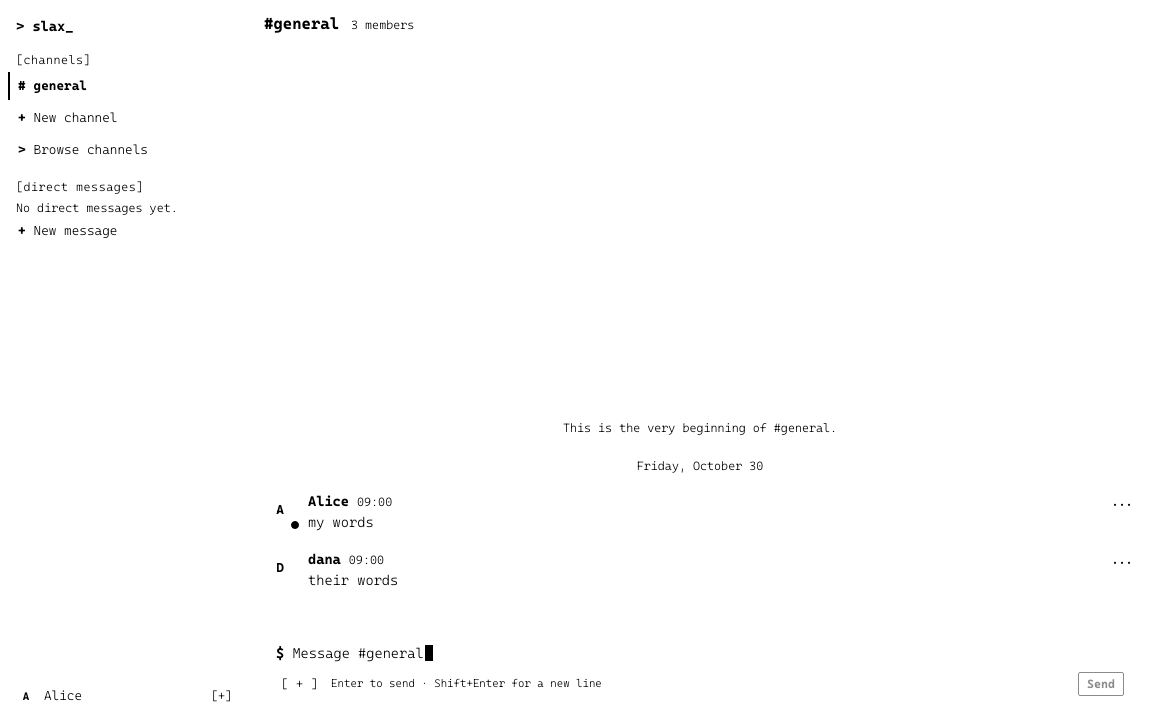
Test: message actions › says why an edit was refused, and keeps the editor open
Click the button with class "message-actions__more" in the row of "my words" at (1122, 505), box [1100,483,1144,527]
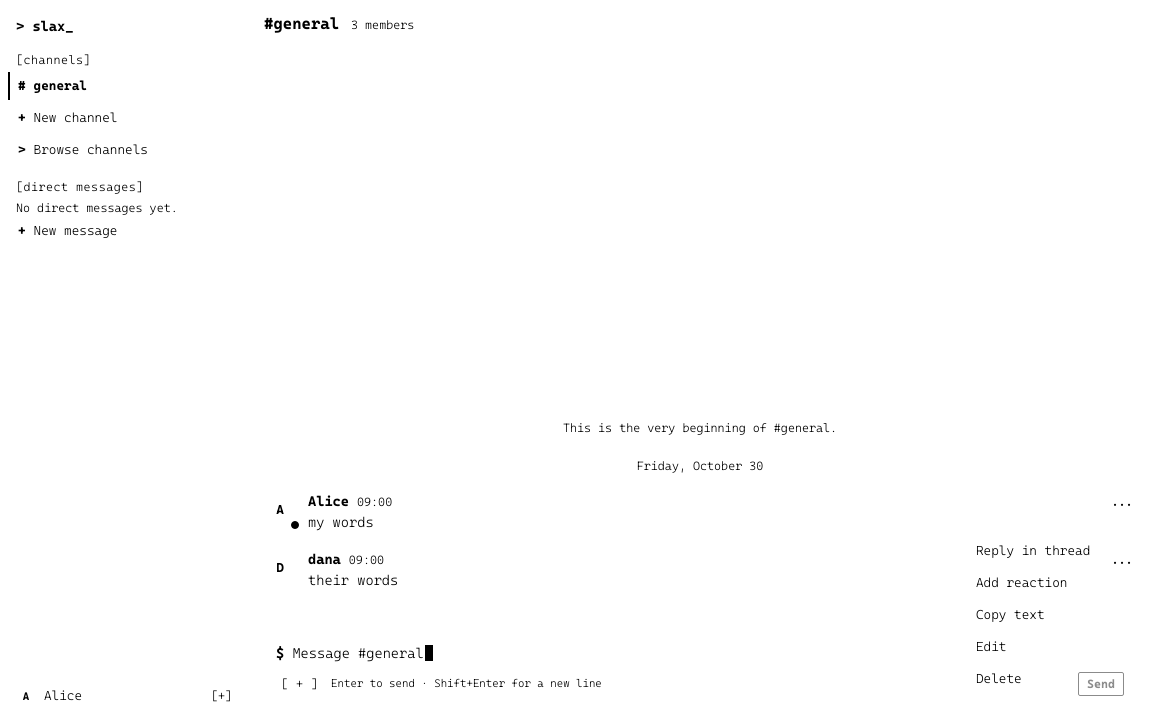
Click the menu item "Edit" at (1052, 647), box [964,631,1140,663]
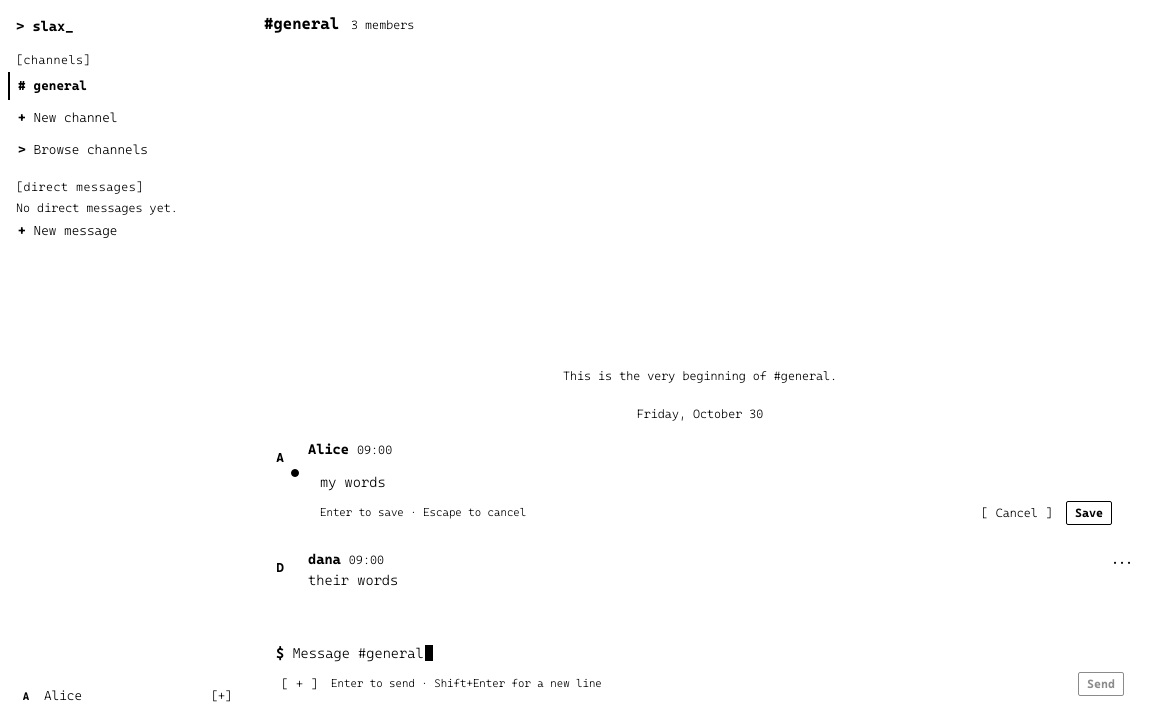
Replace the text in the text box with class "message-editor__input" with "changed" at (716, 482), box [320,472,1112,493]
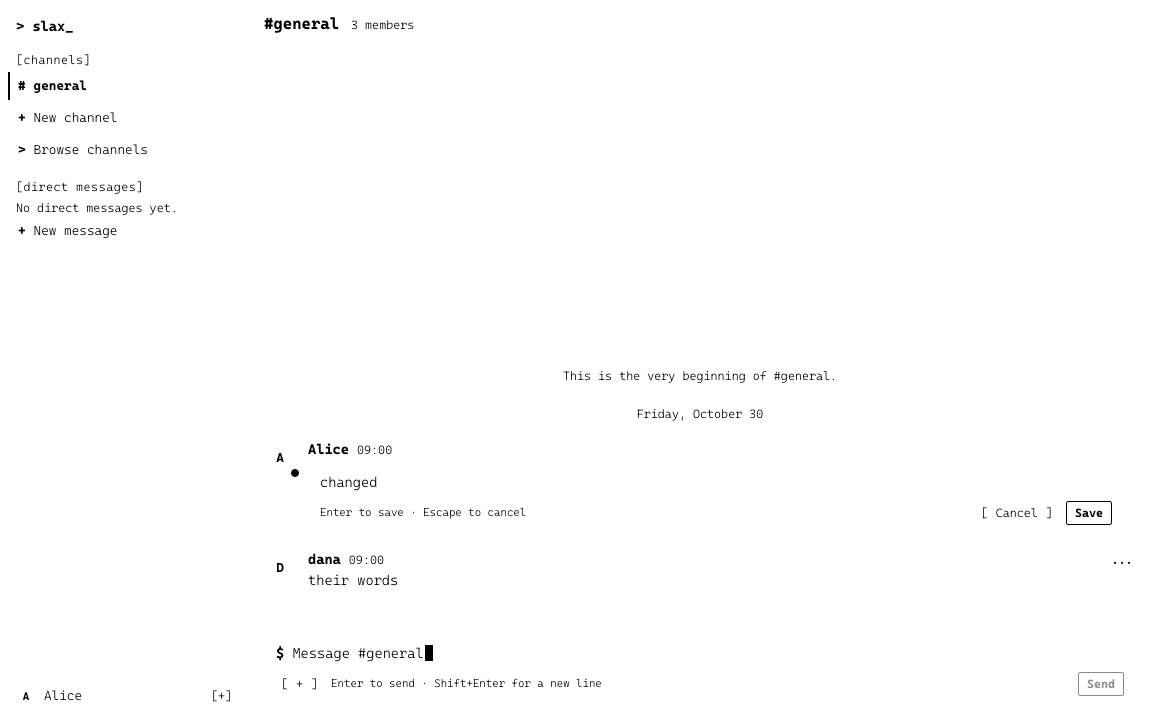
Press Enter in the text box with class "message-editor__input", box [320,472,1112,493]
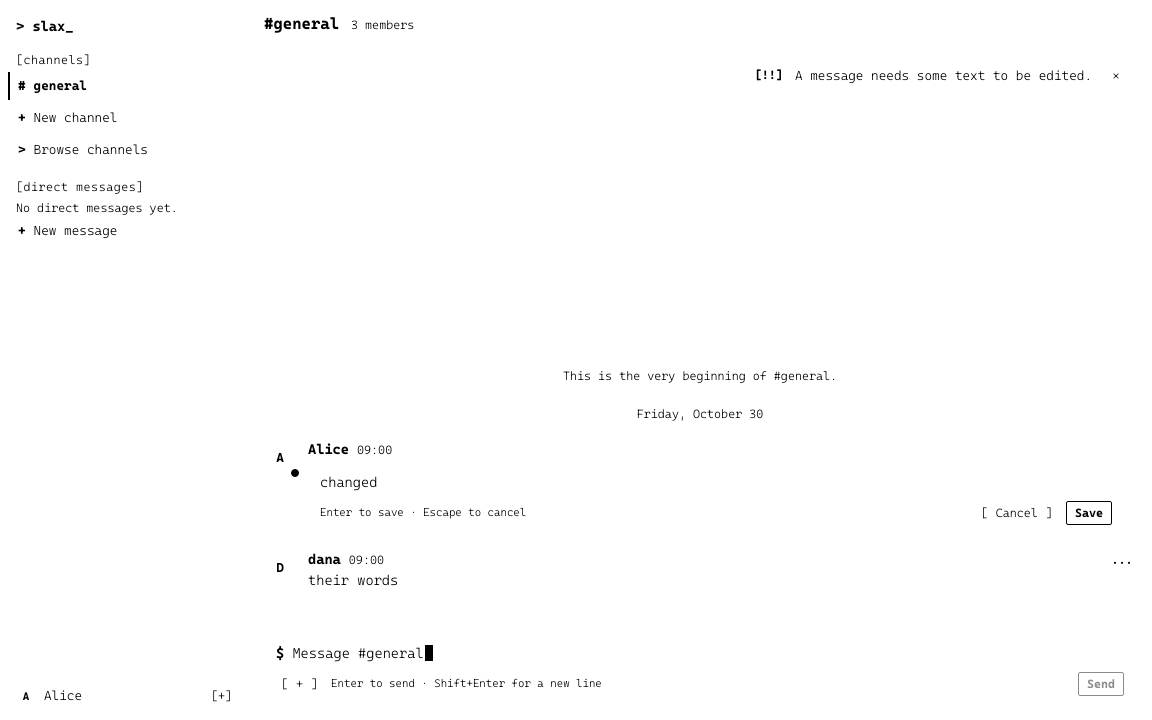
Check: the element with class "message-editor" is shown, box [308,464,1124,533]
Check: the message with class "toast--error" shows "A message needs some text to be edited.", box [795,68,1092,83]
